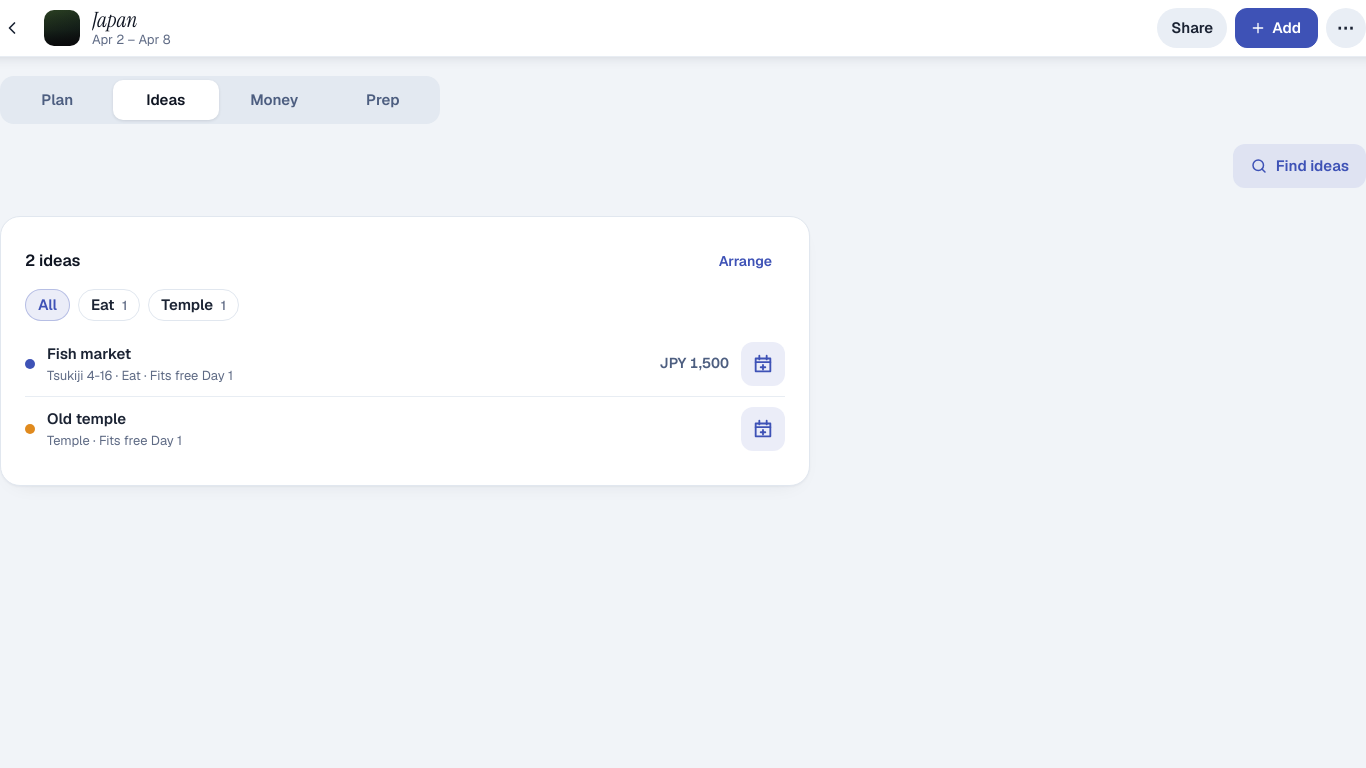
Test case: the finder sheet › closes the menu with Escape without closing the sheet
The image size is (1366, 768).
Click the button "Find ideas": (1299, 166) [1233, 144, 1365, 188]
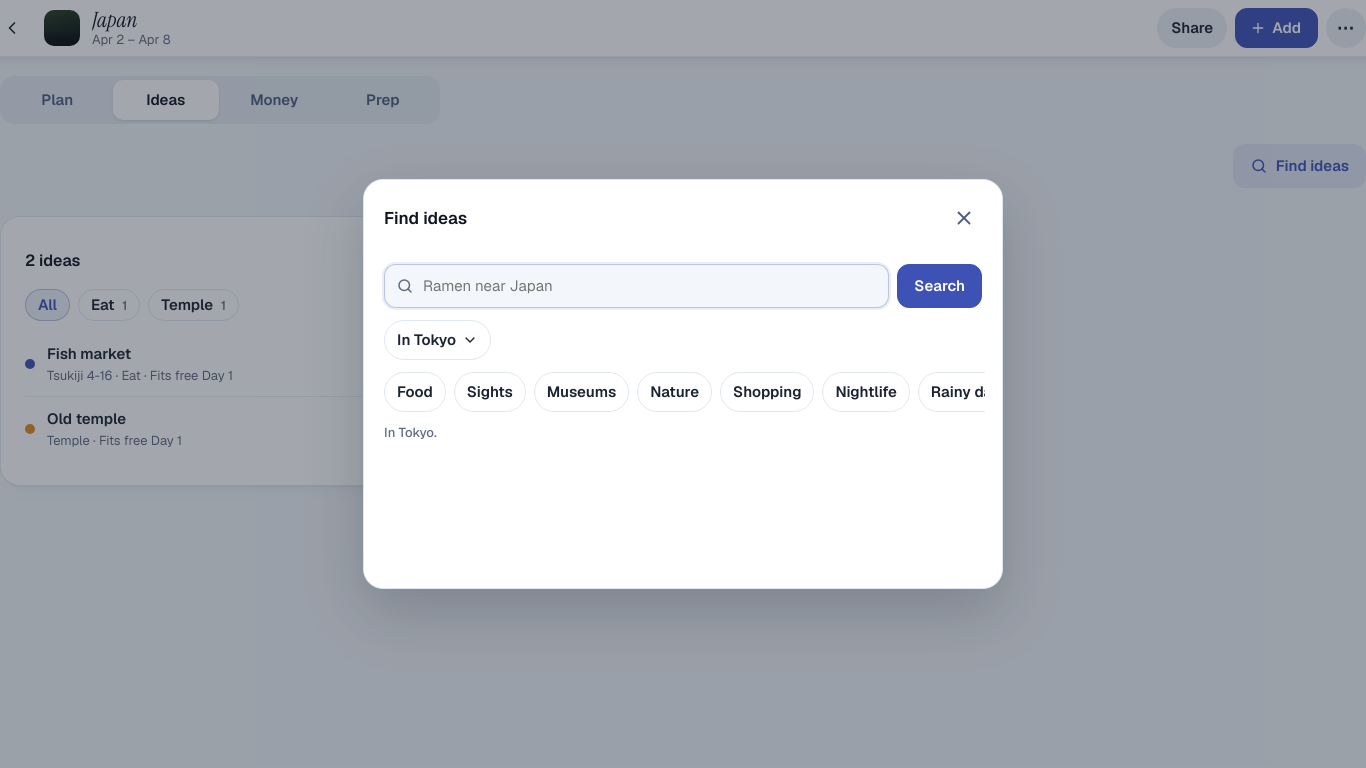
Click the button with aria-label "Look in: ": (438, 340) [384, 320, 491, 360]
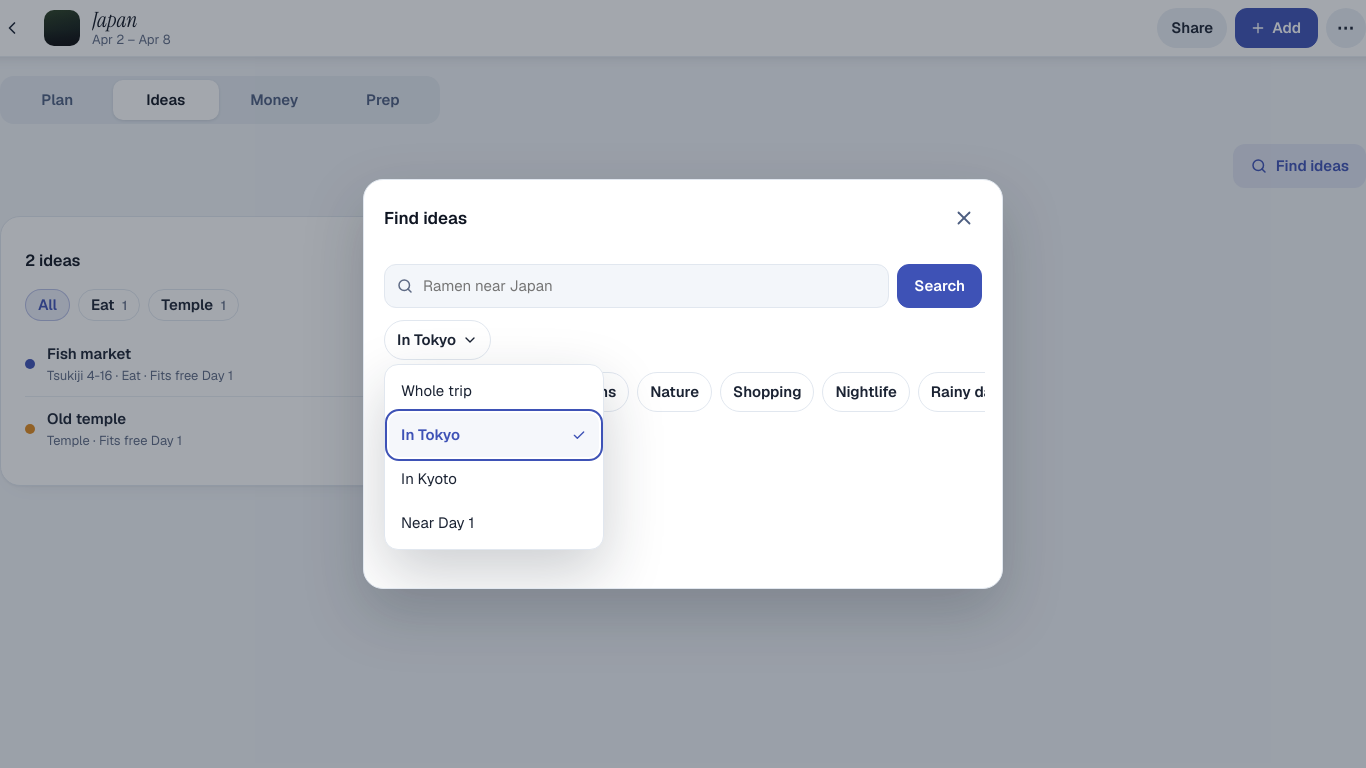
Result: the menu is shown at [384, 364, 604, 550]
Press Escape
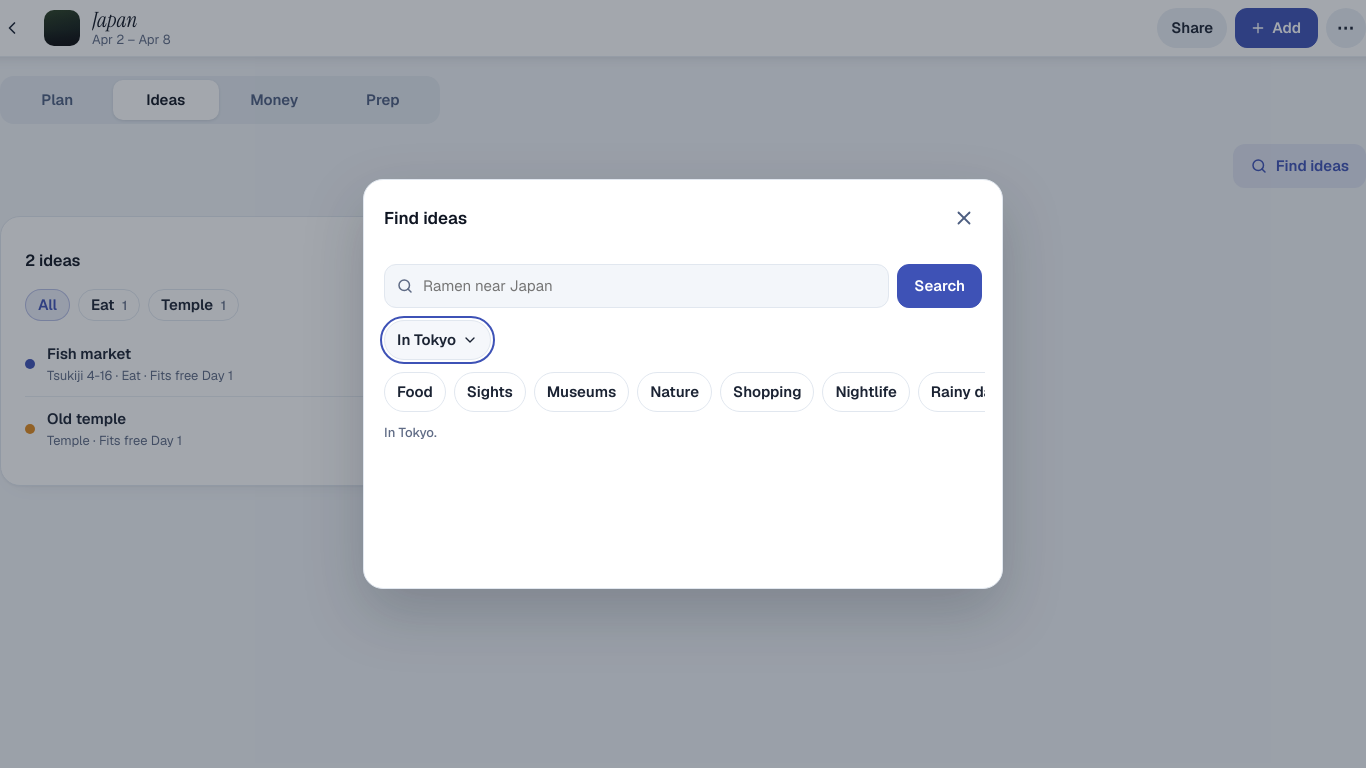
Result: the dialog "Find ideas" is shown at [363, 179, 1003, 589]
Result: the menu is gone
